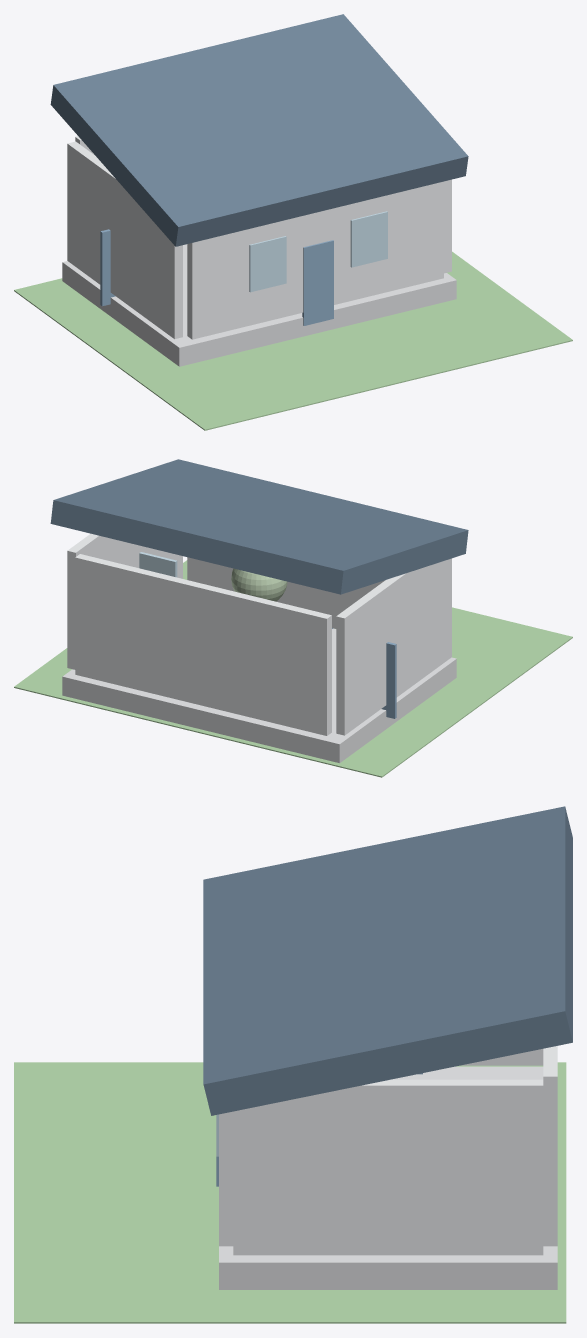
The model's file is BUILDING_HOUSE_COASTAL_COTTAGE_001_LOD_MAP.glb.
3 renders of one model, top to bottom at view 1: azimuth 30°, elevation 25°; view 2: azimuth 150°, elevation 25°; view 3: azimuth 270°, elevation 25°, orthographic. The views are drawn at different scales.
Parts seen in each view (by area): view 1: BUILDING_HOUSE_COASTAL_COTTAGE_001_MAP_ROOF, BUILDING_HOUSE_COASTAL_COTTAGE_001_MAP_GROUND, BUILDING_HOUSE_COASTAL_COTTAGE_001_MAP_WALL_FRONT, BUILDING_HOUSE_COASTAL_COTTAGE_001_MAP_WALL_LEFT, BUILDING_HOUSE_COASTAL_COTTAGE_001_MAP_FOUNDATION, BUILDING_HOUSE_COASTAL_COTTAGE_001_MAP_DOOR_FRONT, BUILDING_HOUSE_COASTAL_COTTAGE_001_MAP_WINDOW_01, BUILDING_HOUSE_COASTAL_COTTAGE_001_MAP_WINDOW_02, BUILDING_HOUSE_COASTAL_COTTAGE_001_MAP_DOOR_SERVICE, BUILDING_HOUSE_COASTAL_COTTAGE_001_MAP_WALL_RIGHT; view 2: BUILDING_HOUSE_COASTAL_COTTAGE_001_MAP_WALL_BACK, BUILDING_HOUSE_COASTAL_COTTAGE_001_MAP_ROOF, BUILDING_HOUSE_COASTAL_COTTAGE_001_MAP_GROUND, BUILDING_HOUSE_COASTAL_COTTAGE_001_MAP_WALL_LEFT, BUILDING_HOUSE_COASTAL_COTTAGE_001_MAP_FOUNDATION, BUILDING_HOUSE_COASTAL_COTTAGE_001_MAP_WALL_FRONT, BUILDING_HOUSE_COASTAL_COTTAGE_001_MAP_WALL_RIGHT, MOD_TREE_EUCALYPTUS_STANDARD_001_MAP_CANOPY, BUILDING_HOUSE_COASTAL_COTTAGE_001_MAP_DOOR_SERVICE, BUILDING_HOUSE_COASTAL_COTTAGE_001_MAP_WINDOW_03; view 3: BUILDING_HOUSE_COASTAL_COTTAGE_001_MAP_ROOF, BUILDING_HOUSE_COASTAL_COTTAGE_001_MAP_GROUND, BUILDING_HOUSE_COASTAL_COTTAGE_001_MAP_WALL_RIGHT, BUILDING_HOUSE_COASTAL_COTTAGE_001_MAP_FOUNDATION, BUILDING_HOUSE_COASTAL_COTTAGE_001_MAP_WALL_BACK, BUILDING_HOUSE_COASTAL_COTTAGE_001_MAP_WALL_FRONT, BUILDING_HOUSE_COASTAL_COTTAGE_001_MAP_WALL_LEFT.
Boxes of the visible parts, x1=… form: BUILDING_HOUSE_COASTAL_COTTAGE_001_MAP_ROOF: x1=50, y1=14, x2=468, y2=246; BUILDING_HOUSE_COASTAL_COTTAGE_001_MAP_GROUND: x1=14, y1=251, x2=572, y2=430; BUILDING_HOUSE_COASTAL_COTTAGE_001_MAP_WALL_FRONT: x1=187, y1=181, x2=443, y2=339; BUILDING_HOUSE_COASTAL_COTTAGE_001_MAP_WALL_LEFT: x1=67, y1=141, x2=182, y2=339; BUILDING_HOUSE_COASTAL_COTTAGE_001_MAP_FOUNDATION: x1=62, y1=244, x2=456, y2=366; BUILDING_HOUSE_COASTAL_COTTAGE_001_MAP_DOOR_FRONT: x1=302, y1=240, x2=333, y2=325; BUILDING_HOUSE_COASTAL_COTTAGE_001_MAP_WINDOW_01: x1=249, y1=236, x2=286, y2=292; BUILDING_HOUSE_COASTAL_COTTAGE_001_MAP_WINDOW_02: x1=350, y1=211, x2=387, y2=267; BUILDING_HOUSE_COASTAL_COTTAGE_001_MAP_DOOR_SERVICE: x1=100, y1=229, x2=115, y2=306; BUILDING_HOUSE_COASTAL_COTTAGE_001_MAP_WALL_RIGHT: x1=444, y1=179, x2=451, y2=273; BUILDING_HOUSE_COASTAL_COTTAGE_001_MAP_WALL_BACK: x1=75, y1=554, x2=331, y2=735; BUILDING_HOUSE_COASTAL_COTTAGE_001_MAP_ROOF: x1=50, y1=459, x2=468, y2=594; BUILDING_HOUSE_COASTAL_COTTAGE_001_MAP_GROUND: x1=14, y1=560, x2=572, y2=777; BUILDING_HOUSE_COASTAL_COTTAGE_001_MAP_WALL_LEFT: x1=336, y1=558, x2=451, y2=735; BUILDING_HOUSE_COASTAL_COTTAGE_001_MAP_FOUNDATION: x1=62, y1=628, x2=456, y2=763; BUILDING_HOUSE_COASTAL_COTTAGE_001_MAP_WALL_FRONT: x1=187, y1=557, x2=385, y2=628; BUILDING_HOUSE_COASTAL_COTTAGE_001_MAP_WALL_RIGHT: x1=67, y1=533, x2=182, y2=669; MOD_TREE_EUCALYPTUS_STANDARD_001_MAP_CANOPY: x1=231, y1=568, x2=287, y2=601; BUILDING_HOUSE_COASTAL_COTTAGE_001_MAP_DOOR_SERVICE: x1=381, y1=642, x2=396, y2=718; BUILDING_HOUSE_COASTAL_COTTAGE_001_MAP_WINDOW_03: x1=139, y1=552, x2=177, y2=577; BUILDING_HOUSE_COASTAL_COTTAGE_001_MAP_ROOF: x1=203, y1=806, x2=572, y2=1115; BUILDING_HOUSE_COASTAL_COTTAGE_001_MAP_GROUND: x1=14, y1=1062, x2=566, y2=1323; BUILDING_HOUSE_COASTAL_COTTAGE_001_MAP_WALL_RIGHT: x1=233, y1=1079, x2=543, y2=1255; BUILDING_HOUSE_COASTAL_COTTAGE_001_MAP_FOUNDATION: x1=219, y1=1066, x2=557, y2=1289; BUILDING_HOUSE_COASTAL_COTTAGE_001_MAP_WALL_BACK: x1=543, y1=1046, x2=557, y2=1246; BUILDING_HOUSE_COASTAL_COTTAGE_001_MAP_WALL_FRONT: x1=219, y1=1111, x2=233, y2=1246; BUILDING_HOUSE_COASTAL_COTTAGE_001_MAP_WALL_LEFT: x1=461, y1=1049, x2=543, y2=1065.
Size of the model in its own units: 6.9 by 3.55 by 6.27.
